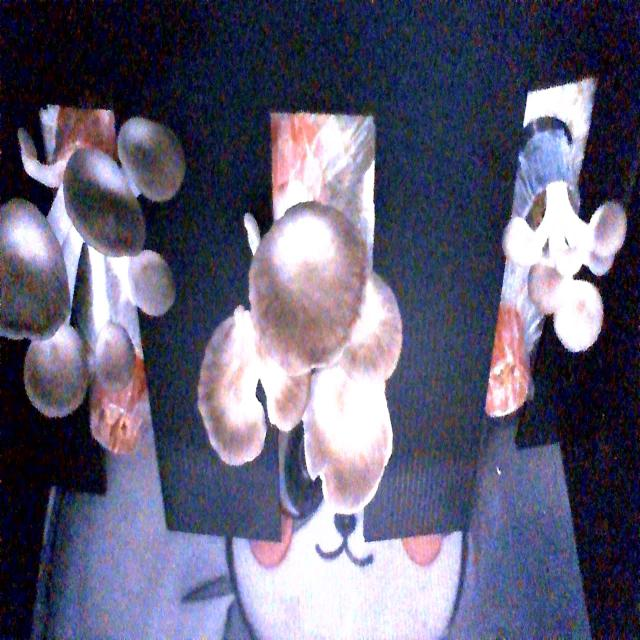big: (194, 210, 404, 506), (0, 112, 186, 423)
nfound: (81, 379, 158, 462), (485, 340, 539, 438)
small: (495, 177, 633, 347)
